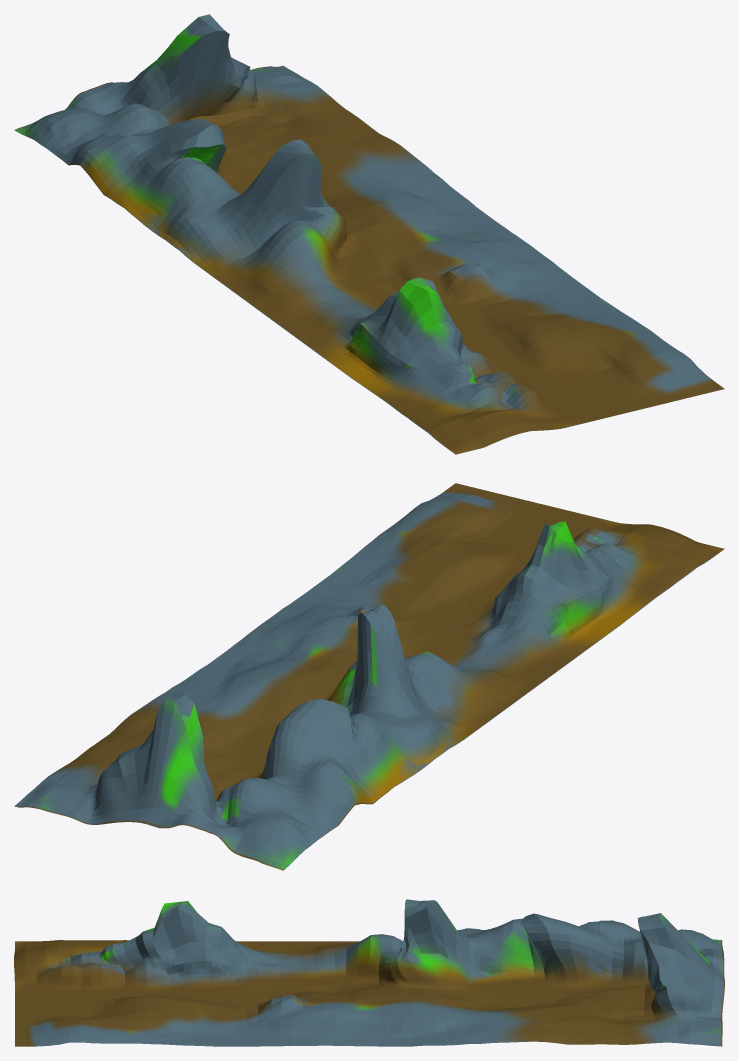
Rendered from Mountain.fbx.
3 renders of one model, top to bottom at view 1: azimuth 30°, elevation 25°; view 2: azimuth 150°, elevation 25°; view 3: azimuth 270°, elevation 25°, orthographic. The views are drawn at different scales.
Visible parts, largest first — view 1: Plane; view 2: Plane; view 3: Plane.
Part boxes in pixels (x1,y1,x2,y2): Plane: (14, 14, 724, 454); Plane: (14, 483, 724, 870); Plane: (14, 899, 724, 1046).
Bounding box in the file's own units: 9618 × 3630 × 27185.
Materials: 1 (1 with a texture image).
